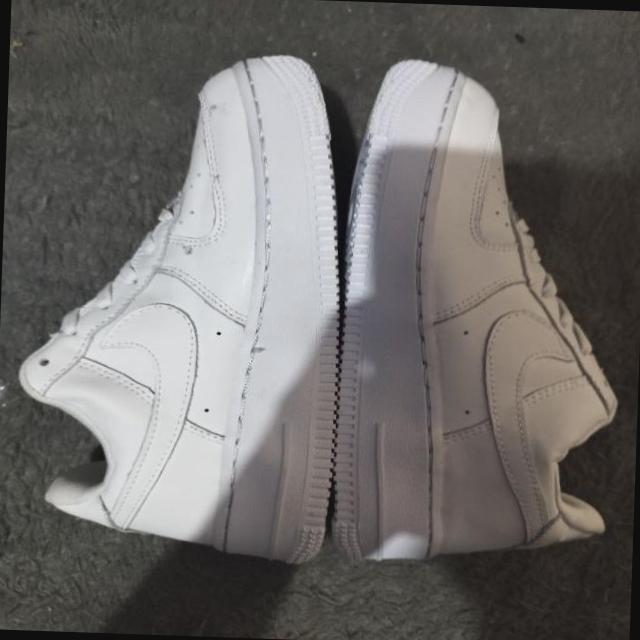nike_fake_airforce: (8, 44, 353, 570), (326, 54, 632, 581)
